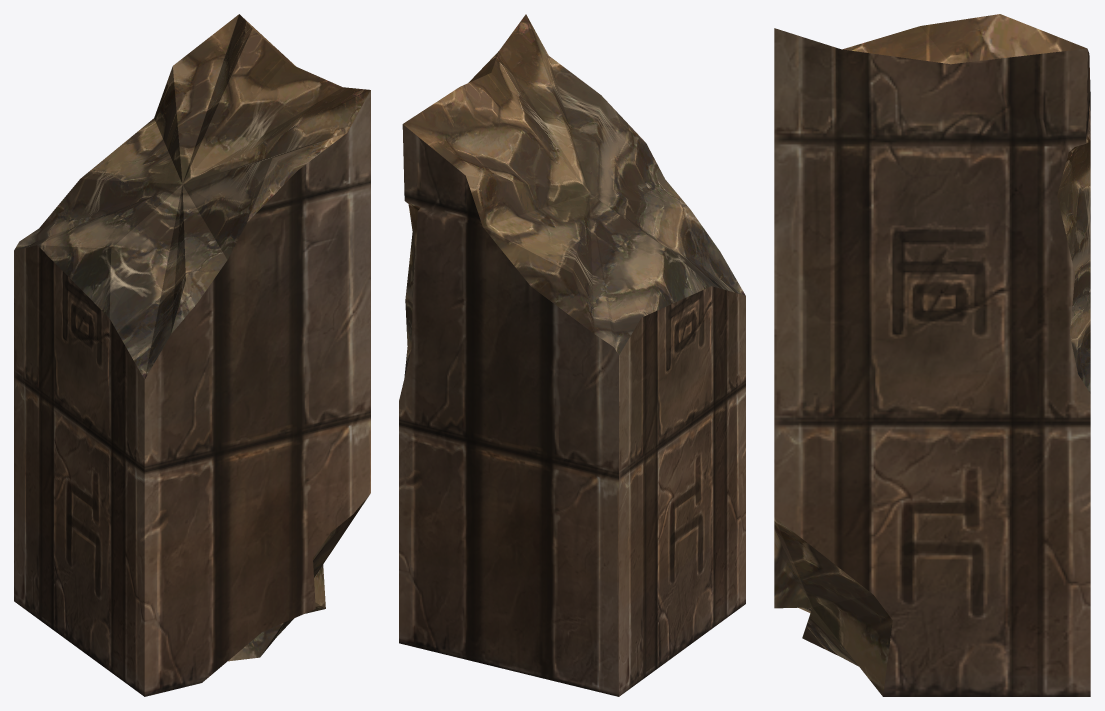
The model's file is D_shizhu008.fbx.
3 views of the same model, side by side, from view 1: azimuth 30°, elevation 25°; view 2: azimuth 150°, elevation 25°; view 3: azimuth 270°, elevation 25° (orthographic). The views are drawn at different scales.
Visible parts, largest first — view 1: D_shizhu008; view 2: D_shizhu008; view 3: D_shizhu008.
Boxes of the visible parts, left/top/right/bottom form: D_shizhu008: left=14, top=14, right=370, bottom=696; D_shizhu008: left=399, top=14, right=745, bottom=696; D_shizhu008: left=774, top=14, right=1090, bottom=696.
Bounding box in the file's own units: 93.35 × 218 × 93.34.
